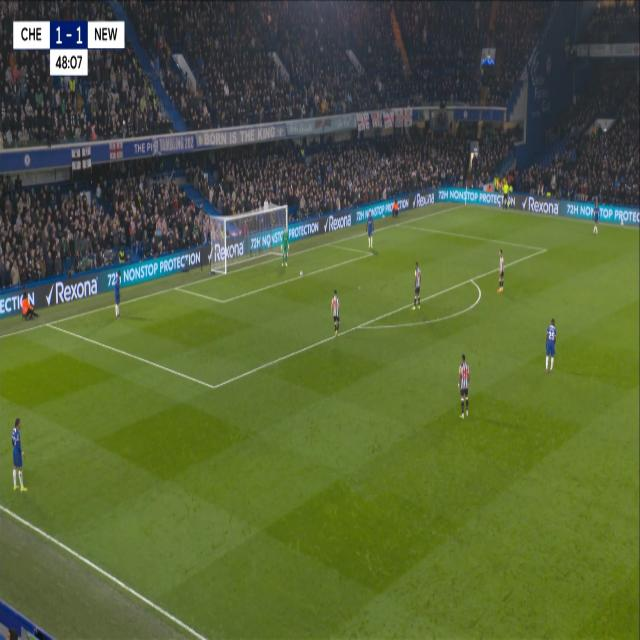Ball: (299, 268, 303, 278)
Chelsea: (8, 413, 30, 496), (542, 313, 560, 376), (112, 267, 126, 321), (362, 210, 377, 252), (588, 198, 602, 238)
Chelsea keeper: (280, 223, 290, 267)
New castle: (455, 350, 473, 424), (327, 285, 344, 343), (410, 255, 423, 312), (494, 245, 506, 292)
